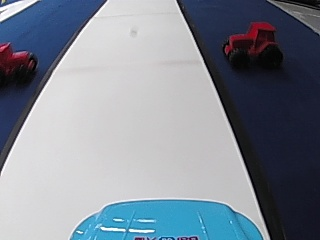tractor: (222, 19, 282, 71), (0, 39, 37, 86)
